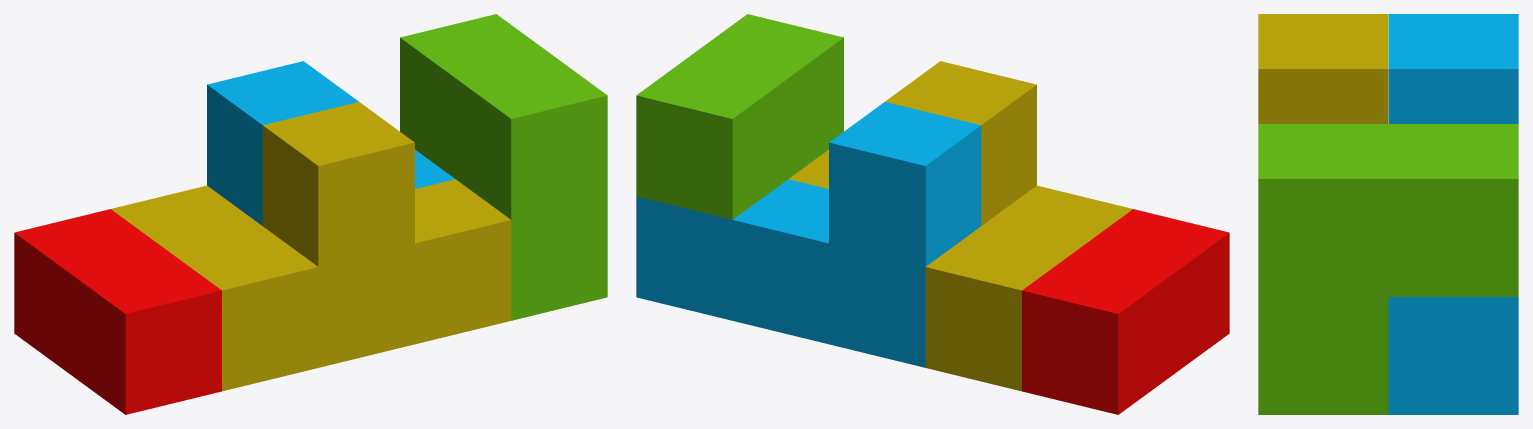
3 renders of one model, left to right at view 1: azimuth 30°, elevation 25°; view 2: azimuth 150°, elevation 25°; view 3: azimuth 270°, elevation 25°, orthographic. The views are drawn at different scales.
Visible parts, largest first — view 1: mergedBlocks(Clone); view 2: mergedBlocks(Clone); view 3: mergedBlocks(Clone).
Boxes of the visible parts, bbox=[...] form: mergedBlocks(Clone): bbox=[14, 14, 607, 414]; mergedBlocks(Clone): bbox=[636, 14, 1229, 414]; mergedBlocks(Clone): bbox=[1258, 14, 1518, 414].
Bounding box in the file's own units: 5 × 2 × 2.
4 materials, 4 textured.
